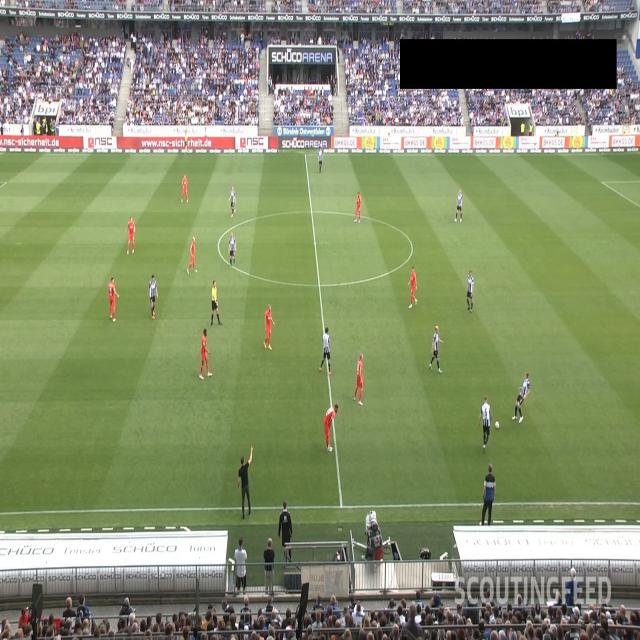ball: (494, 420, 500, 430)
